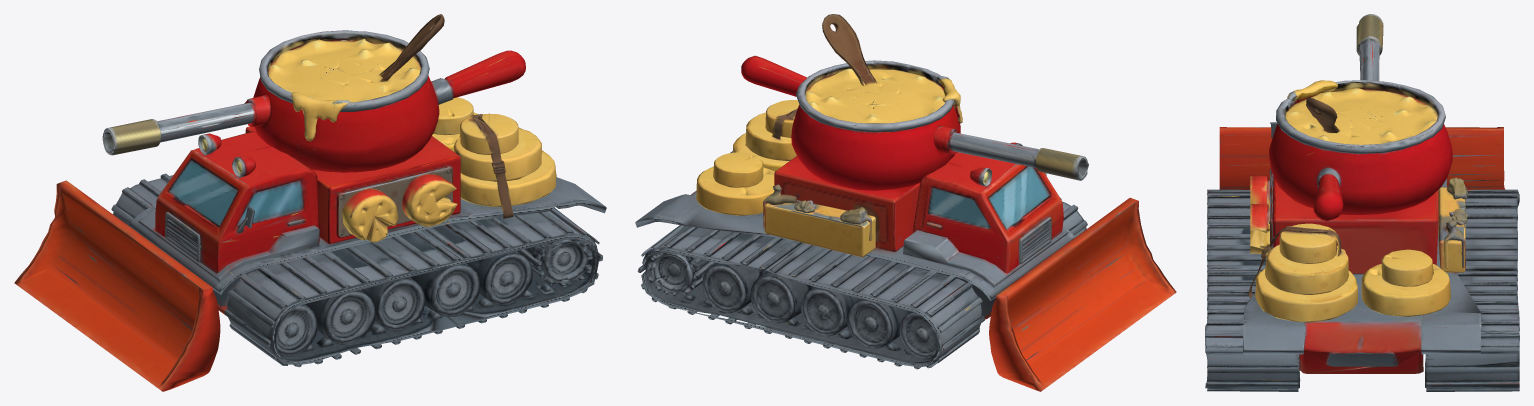
File: meshy-vehicle-fondue-crawler.glb
3 views of the same model, side by side, from view 1: azimuth 30°, elevation 25°; view 2: azimuth 150°, elevation 25°; view 3: azimuth 270°, elevation 25° (orthographic). The views are drawn at different scales.
Bounding box in the file's own units: 0.9478 × 0.5244 × 0.5815.
1 material, 1 textured.
